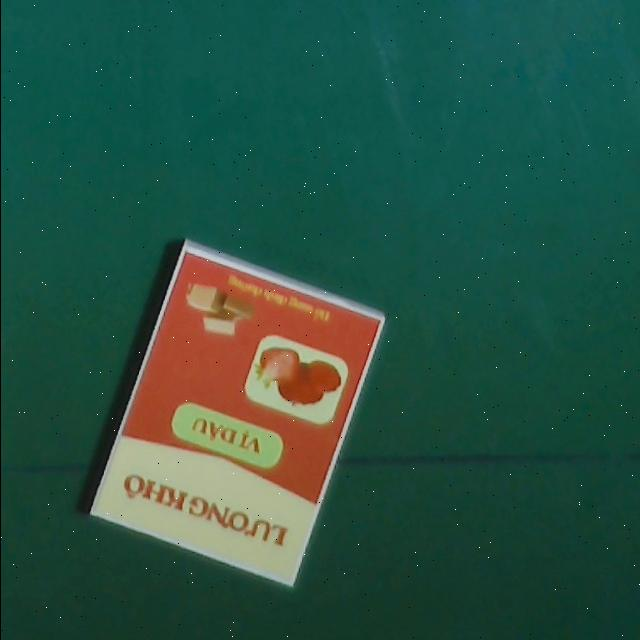dau: (87, 239, 387, 585)
